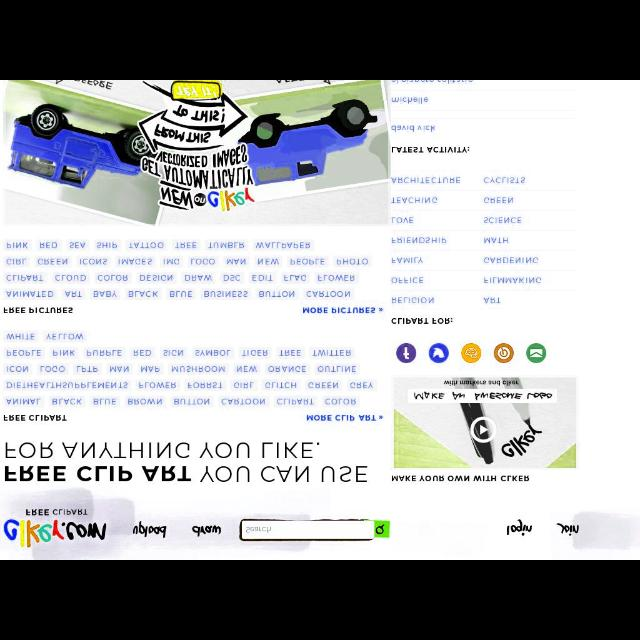icon: (377, 522, 388, 536), (378, 304, 384, 318), (380, 408, 384, 422)
iframe: (388, 368, 586, 489)
image: (1, 80, 385, 228), (4, 520, 108, 548), (430, 342, 450, 363), (526, 343, 548, 362), (396, 343, 416, 363), (461, 343, 481, 363), (493, 343, 513, 363)
input: (238, 516, 396, 548)
multitab: (123, 506, 635, 556)
text: (2, 438, 370, 484), (389, 312, 455, 328), (2, 304, 74, 318), (306, 410, 376, 424), (7, 381, 127, 389), (2, 412, 70, 426), (483, 252, 541, 268), (391, 194, 441, 212), (392, 146, 474, 156), (299, 306, 373, 316), (389, 234, 449, 246), (390, 294, 440, 308), (390, 121, 440, 135), (23, 507, 92, 517), (481, 273, 545, 283), (386, 255, 429, 269), (392, 174, 466, 182), (130, 522, 170, 536), (393, 94, 431, 108), (389, 274, 426, 288), (5, 395, 41, 409), (194, 521, 222, 539), (482, 176, 532, 186), (506, 520, 532, 538), (172, 363, 224, 372), (554, 522, 582, 538), (255, 240, 311, 248), (6, 290, 54, 298), (482, 215, 520, 225), (318, 363, 356, 373), (276, 398, 316, 407), (222, 398, 266, 406), (268, 363, 306, 372), (7, 348, 41, 358), (87, 348, 121, 358), (139, 272, 173, 282), (290, 256, 324, 266), (482, 234, 510, 246), (206, 290, 248, 298), (245, 524, 277, 534), (482, 198, 522, 206), (391, 213, 417, 225), (138, 380, 176, 388), (313, 349, 351, 357), (318, 275, 356, 283), (208, 242, 245, 250), (129, 241, 165, 249), (127, 398, 161, 406), (197, 348, 231, 356), (306, 290, 350, 296), (52, 397, 82, 405), (266, 381, 296, 389), (98, 274, 128, 282), (75, 364, 98, 374), (175, 240, 198, 250), (172, 398, 210, 404), (6, 274, 44, 280), (310, 380, 338, 388), (184, 274, 212, 282), (38, 257, 66, 265), (351, 380, 373, 390), (52, 348, 74, 358), (280, 348, 302, 358), (7, 240, 29, 250), (95, 240, 117, 250), (484, 295, 502, 307), (40, 365, 66, 373), (188, 382, 222, 388), (260, 290, 294, 296), (117, 258, 151, 264), (286, 272, 306, 282), (94, 398, 116, 407), (336, 258, 368, 264), (242, 349, 268, 356), (142, 364, 160, 374), (238, 364, 256, 374), (128, 290, 158, 296), (78, 258, 108, 264), (7, 365, 29, 373), (94, 290, 116, 298), (4, 258, 26, 266), (56, 274, 84, 280), (226, 257, 247, 265), (234, 381, 252, 389), (110, 365, 128, 373), (65, 289, 83, 297), (190, 258, 214, 264), (39, 240, 57, 248), (164, 256, 178, 266), (223, 274, 240, 282), (170, 290, 192, 296), (164, 349, 182, 356), (258, 258, 278, 264), (326, 400, 354, 404), (134, 349, 150, 356), (254, 275, 272, 281), (69, 242, 85, 248)
